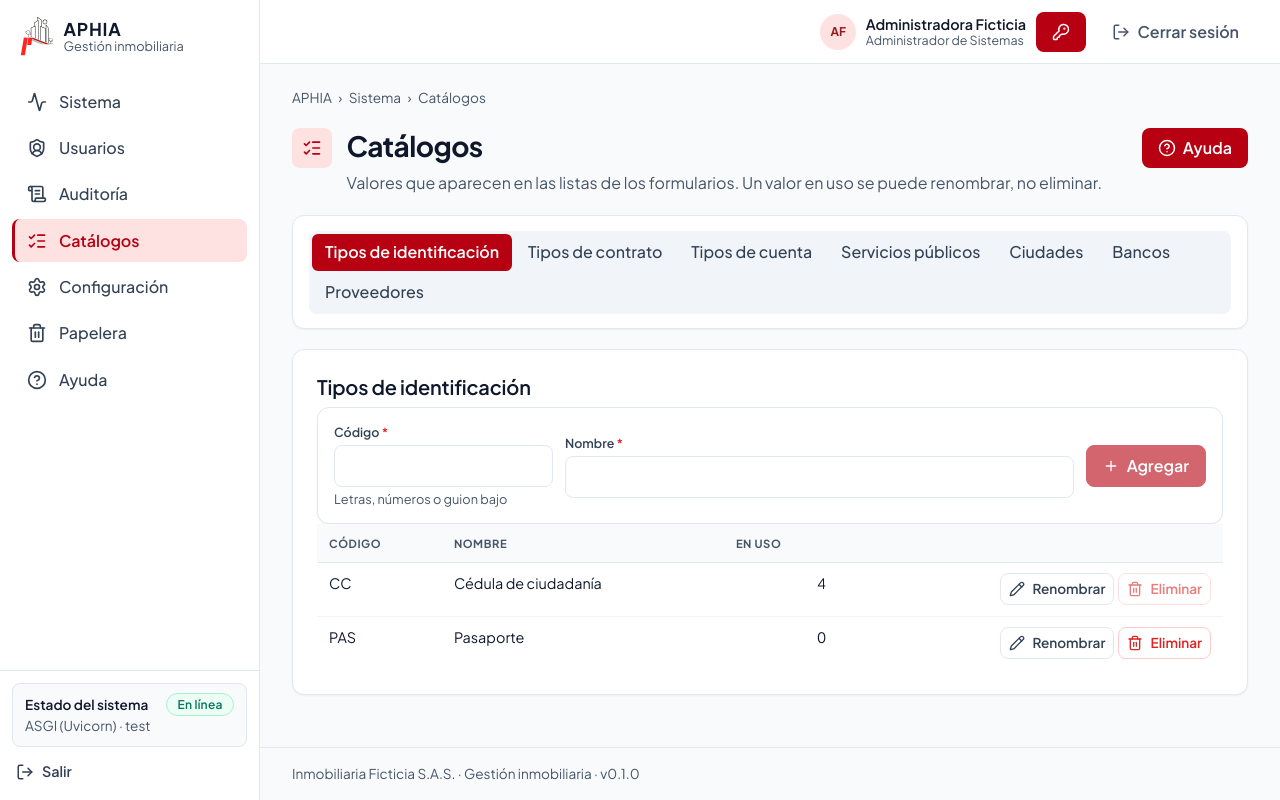
Test: CatalogosPage › agrega, renombra y no deja eliminar un valor en uso
Expected: the text "Cédula de ciudadanía" is shown, [442,562,724,616]
Expected: the button with aria-label "Eliminar Cédula de ciudadanía" is disabled, [1118,573,1211,605]
Type "rc" into the field labelled "Código *" at [444, 466], box [334,445,553,487]
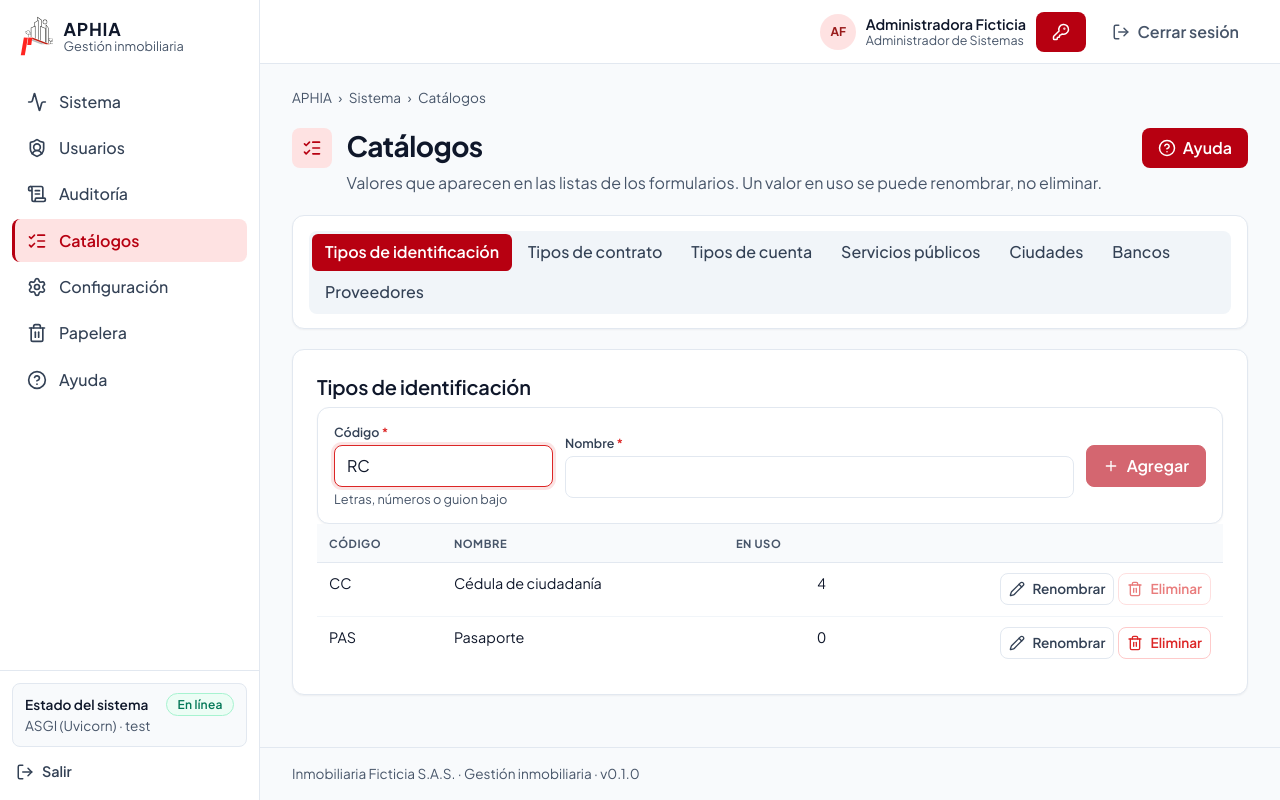
Type "Registro civil" into the field labelled "Nombre *" at [820, 477], box [565,456,1074,498]
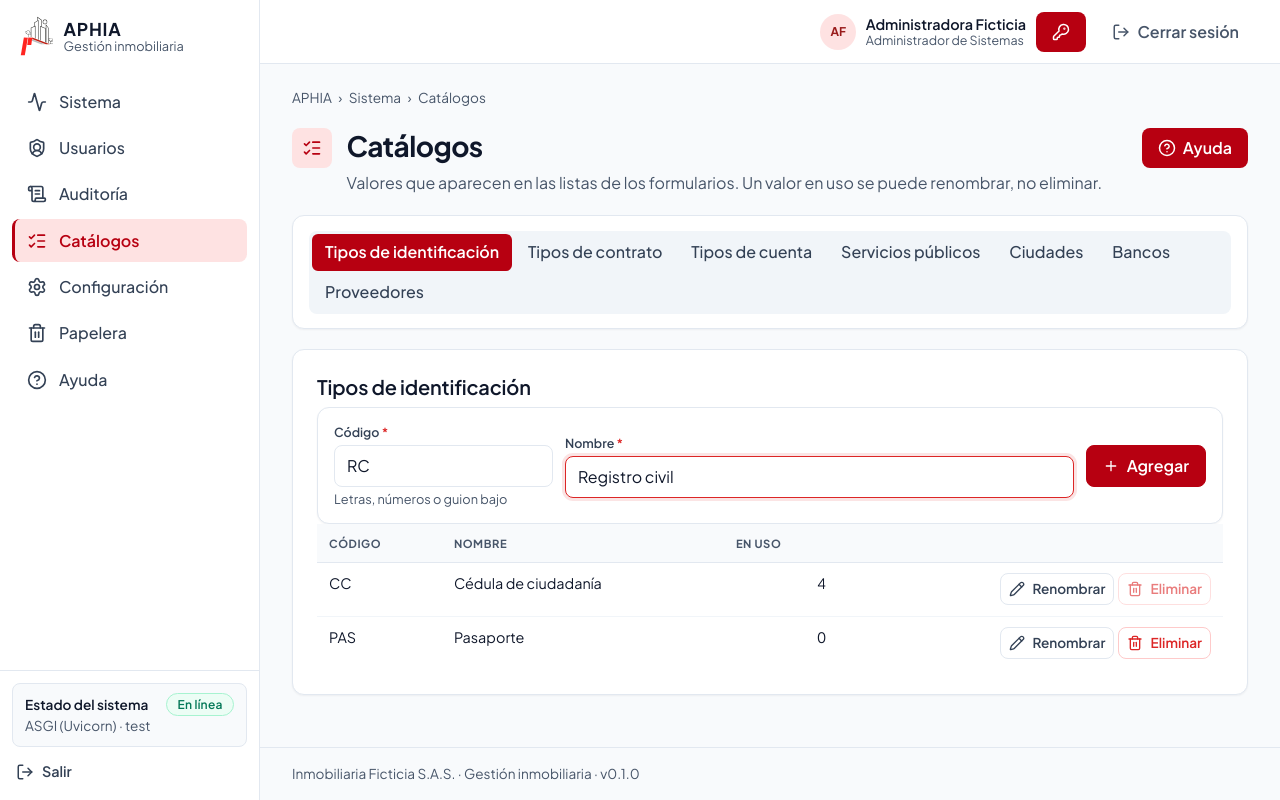
Click the button "Agregar" at [1146, 466], box [1086,445,1206,487]
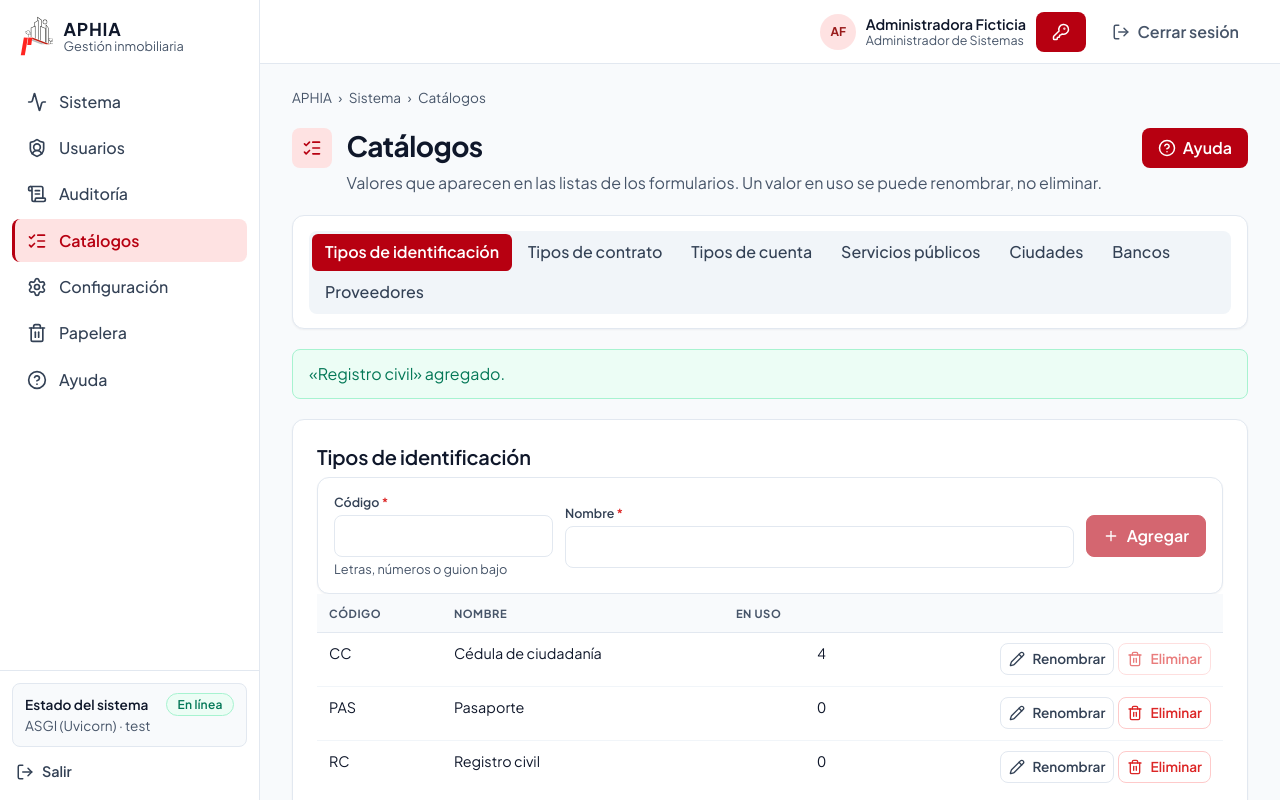
Now the message reads "«Registro civil» agregado.", box [309,363,505,384]
Click the button with aria-label "Renombrar Pasaporte" at [1057, 713], box [1000,697,1114,729]
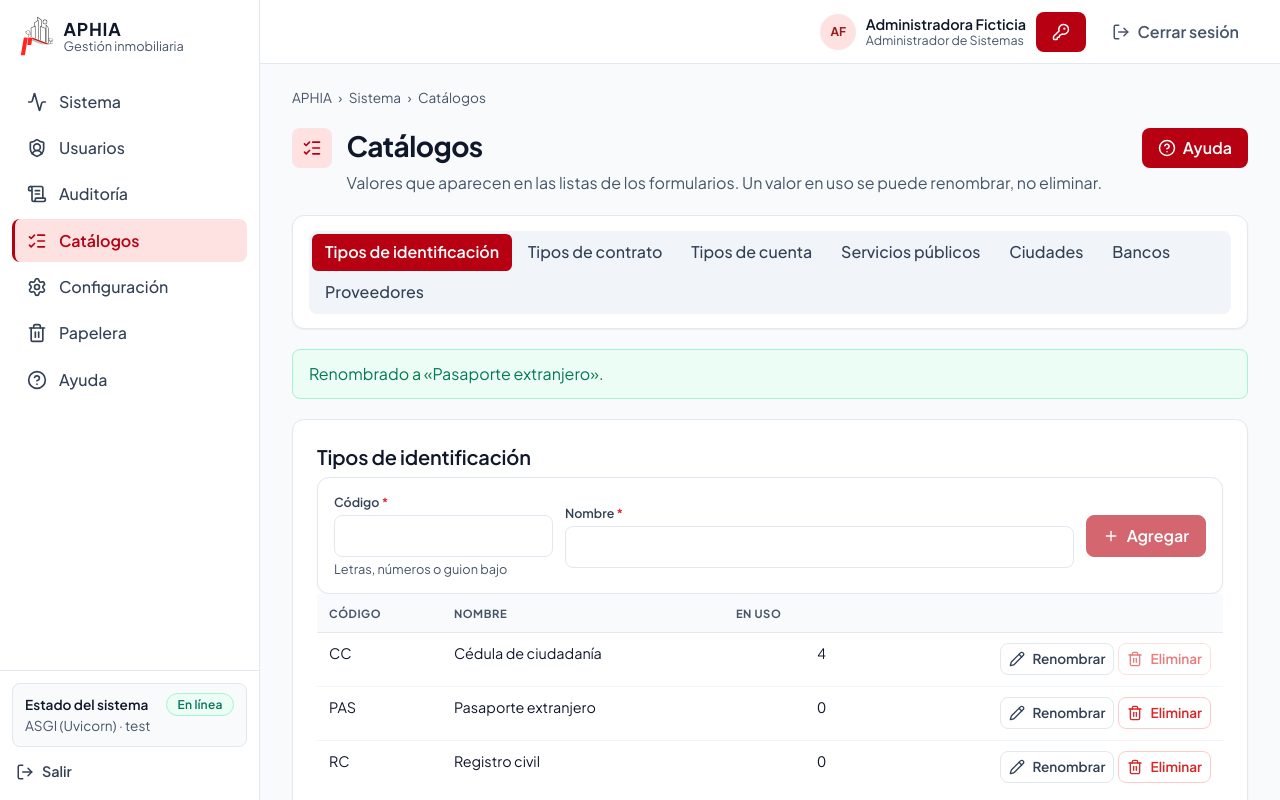
Now the text "Pasaporte extranjero" is shown, box [442,686,724,740]
Click the button "Ciudades" at [1046, 252], box [996,234,1096,271]
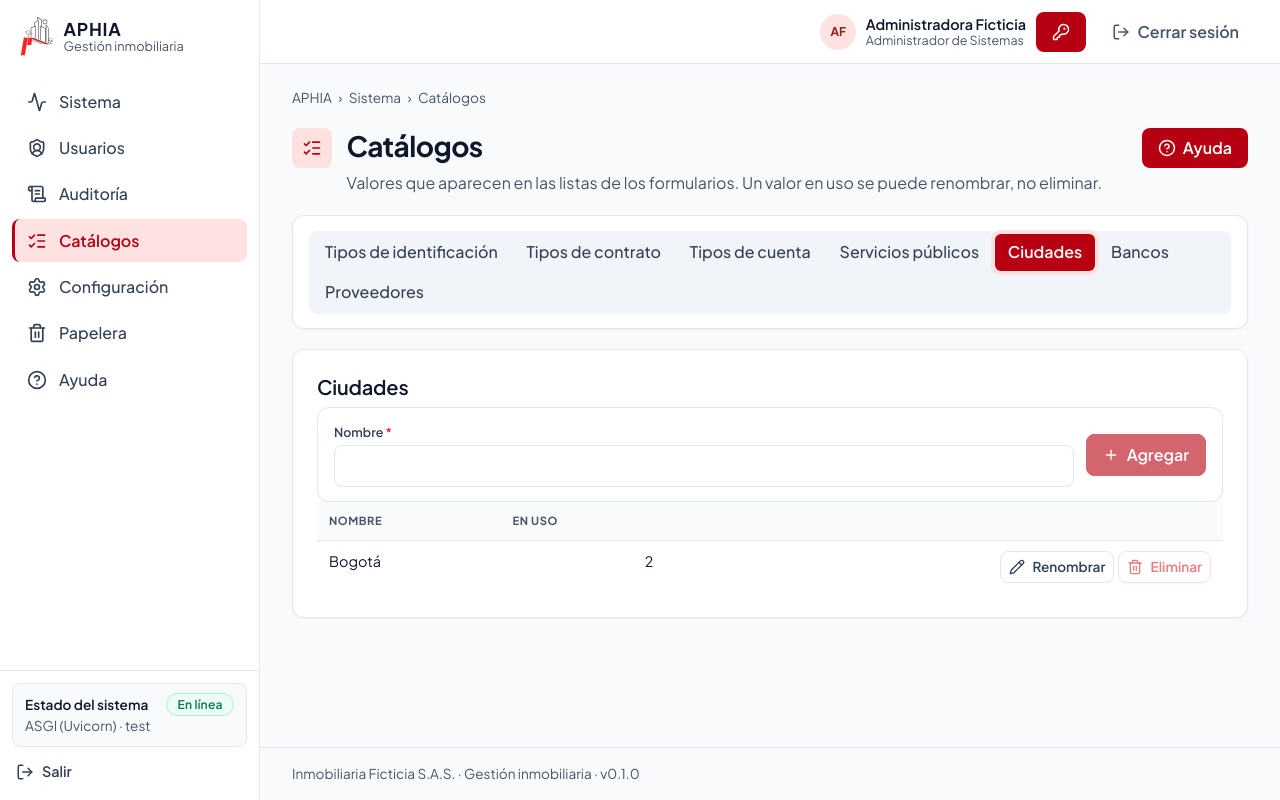
Now the text "Bogotá" is shown, box [317,540,500,593]
Now the label labelled "Código" is gone
